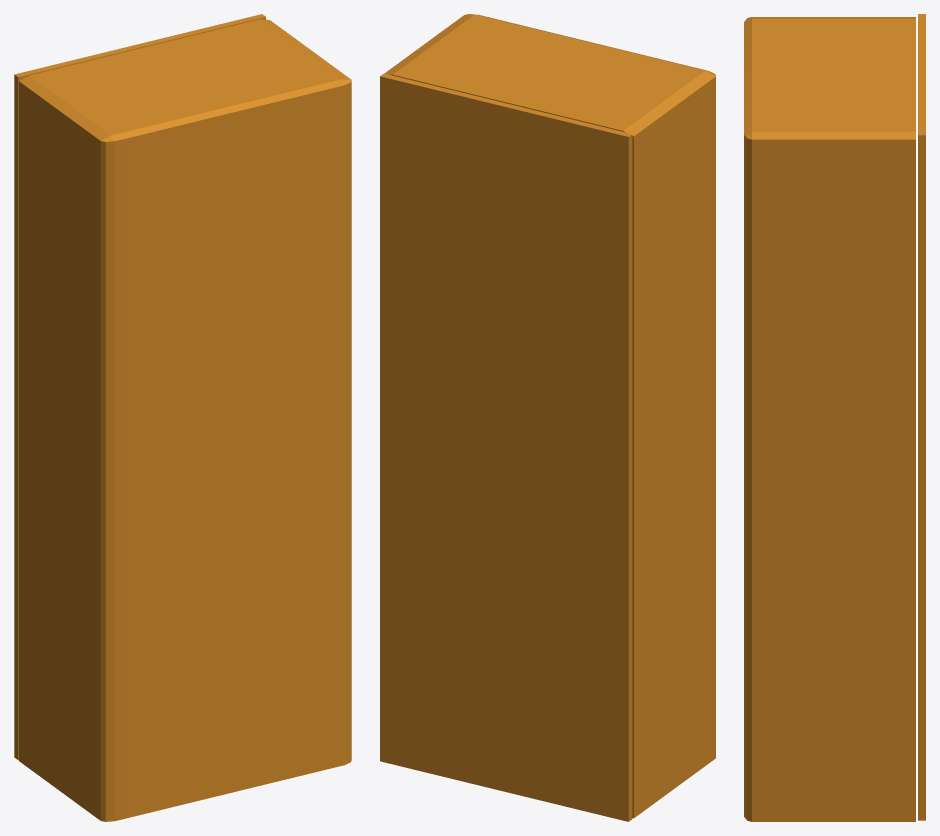
Rendered from Prop_closet_sci0b1.FBX.
3 renders of one model, left to right at view 1: azimuth 30°, elevation 25°; view 2: azimuth 150°, elevation 25°; view 3: azimuth 270°, elevation 25°, orthographic.
Parts seen in each view (by area): view 1: Prop_closet_sci0b04, Prop_closet_sci0b02; view 2: Prop_closet_sci0b02, Prop_closet_sci0b04; view 3: Prop_closet_sci0b04, Prop_closet_sci0b02.
Part boxes in pixels (left/top/right/bottom): Prop_closet_sci0b04: left=19, top=19, right=351, bottom=821; Prop_closet_sci0b02: left=14, top=14, right=265, bottom=760; Prop_closet_sci0b02: left=380, top=73, right=632, bottom=821; Prop_closet_sci0b04: left=384, top=14, right=715, bottom=818; Prop_closet_sci0b04: left=744, top=17, right=915, bottom=821; Prop_closet_sci0b02: left=918, top=14, right=925, bottom=820.
Size of the model in its own units: 28.14 by 73.19 by 17.6.
